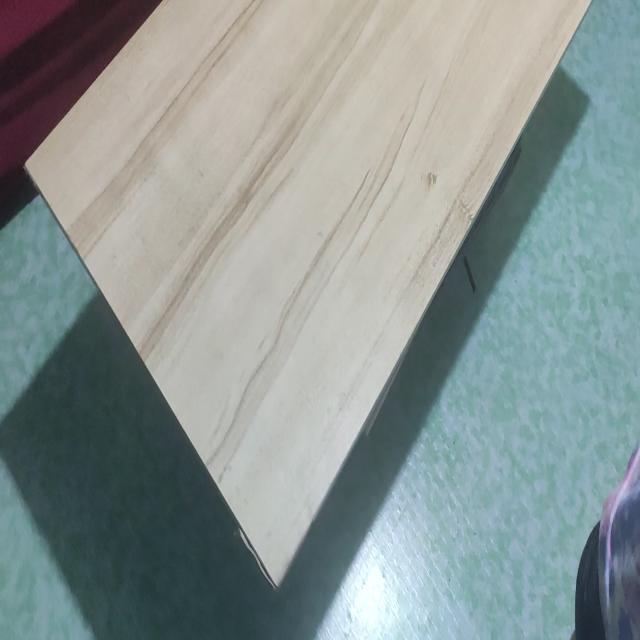table: (29, 0, 602, 509)
